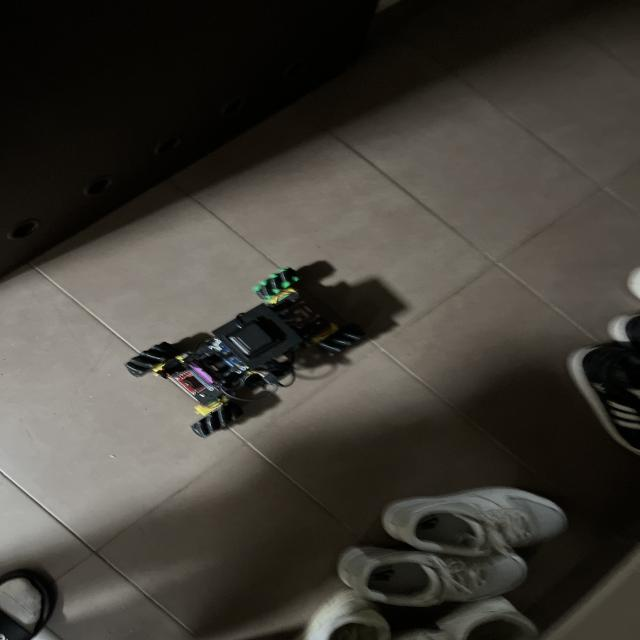robot: (126, 268, 364, 437)
